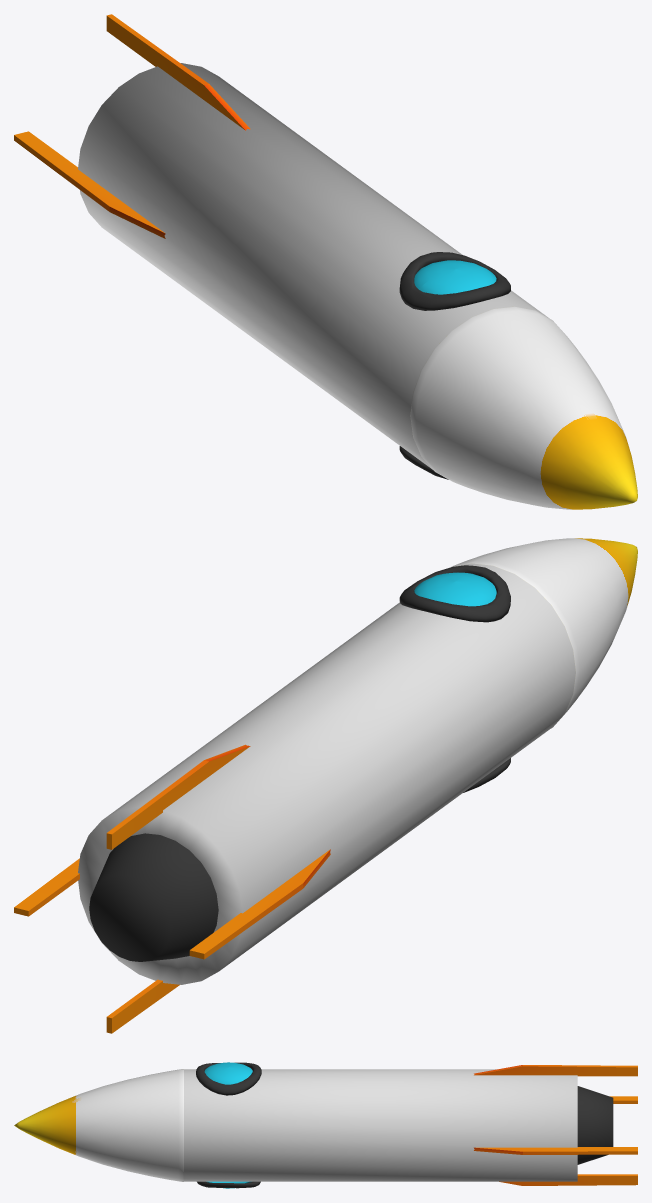
File: rocket.fbx
The picture shows the model from 3 angles, top to bottom: view 1: azimuth 30°, elevation 25°; view 2: azimuth 150°, elevation 25°; view 3: azimuth 270°, elevation 25°; orthographic projection. The views are drawn at different scales.
Visible parts, largest first — view 1: model_1.001, model_1.003, model_3, Cube.002, Cube.003, model_5; view 2: model_1.001, model_1.002, model_1.003, model_3, Cube.002, Cube.003, model_5, Cube, Cube.001; view 3: model_1.001, model_1.003, model_1.002, Cube.002, model_3, Cube.001, Cube, model_5, Cube.003.
Part boxes in pixels (x1,y1,x2,y2): model_1.001: (78,63,548,470); model_1.003: (410,306,637,509); model_3: (399,252,510,479); Cube.002: (106,14,250,130); Cube.003: (14,131,165,238); model_5: (414,260,496,294); model_1.001: (78,563,575,984); model_1.002: (89,833,218,961); model_1.003: (451,538,637,728); model_3: (399,565,510,792); Cube.002: (106,744,250,849); Cube.003: (189,849,330,959); model_5: (414,572,496,606); Cube: (106,979,179,1033); Cube.001: (14,858,79,916); model_1.001: (184,1069,577,1181); model_1.003: (14,1069,183,1181); model_1.002: (577,1086,613,1164); Cube.002: (474,1065,637,1076); model_3: (196,1062,261,1188); Cube.001: (474,1147,637,1154); Cube: (499,1174,637,1185); model_5: (204,1062,252,1188); Cube.003: (610,1096,637,1103).
Size of the model in its own units: 46.75 by 46.75 by 221.
